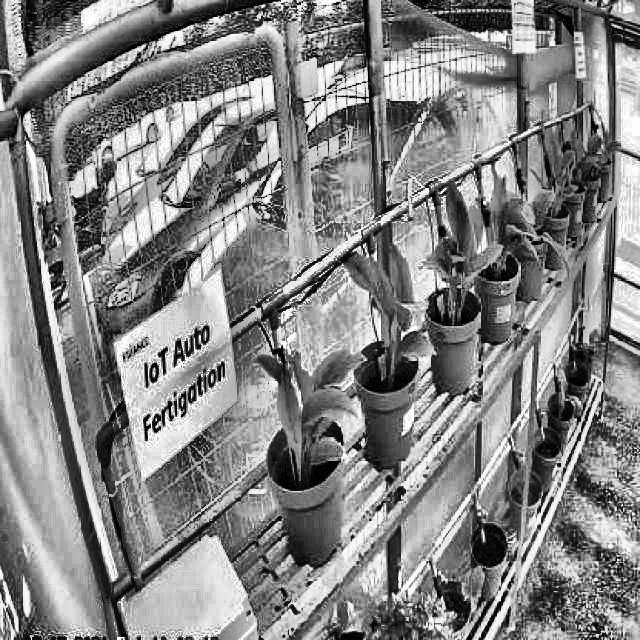plants: (254, 346, 366, 468), (344, 247, 438, 361), (424, 181, 488, 314), (484, 170, 530, 278), (547, 138, 576, 216)
